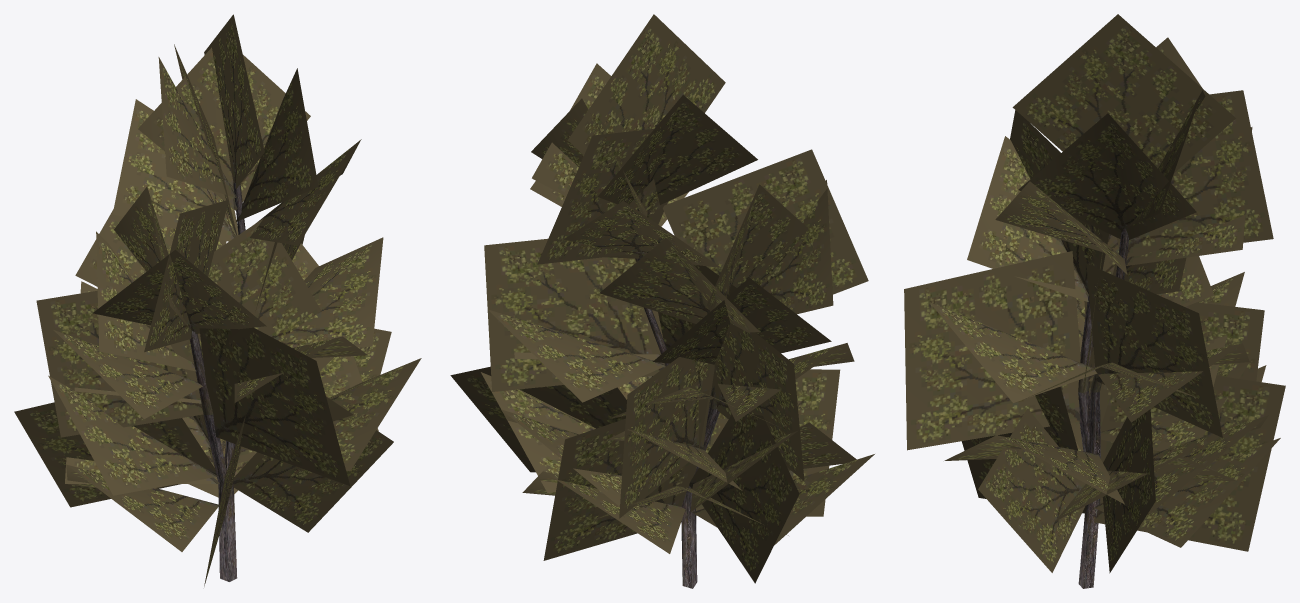
Rendered from OZ_00_be_tree02B.glb.
The picture shows the model from 3 angles, left to right: view 1: azimuth 30°, elevation 25°; view 2: azimuth 150°, elevation 25°; view 3: azimuth 270°, elevation 25°; orthographic projection. The views are drawn at different scales.
Visible parts, largest first — view 1: OM_00_be_tree02B; view 2: OM_00_be_tree02B; view 3: OM_00_be_tree02B.
Boxes of the visible parts, x1,y1,x2,y2 form: OM_00_be_tree02B: (14,14,421,586); OM_00_be_tree02B: (450,14,874,588); OM_00_be_tree02B: (904,14,1285,588).
Size of the model in its own units: 8.53 by 12.27 by 7.29.
2 materials, 2 textured.
